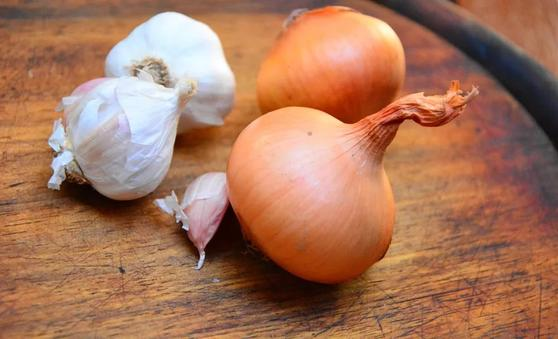onion: (220, 86, 473, 287), (247, 2, 419, 138)
